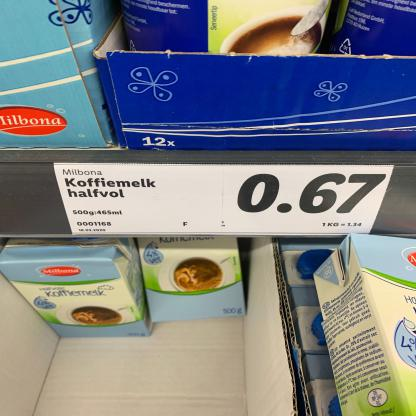prtg: (54, 164, 395, 236)
